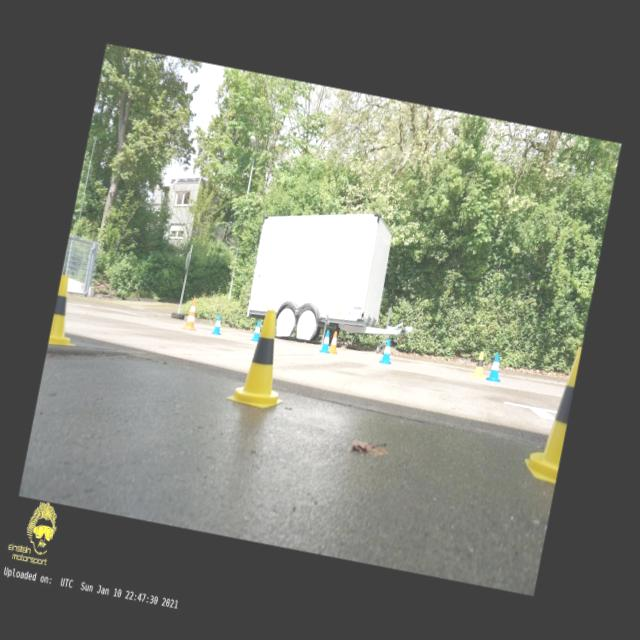blue_cone: (486, 353, 504, 382), (379, 338, 395, 365), (319, 329, 334, 354), (212, 314, 224, 335), (251, 320, 262, 342)
large_orange_cone: (182, 298, 202, 332)
orange_cone: (329, 331, 341, 355)
yellow_cone: (522, 341, 581, 483), (226, 306, 299, 412), (48, 275, 89, 350), (472, 350, 489, 380)
